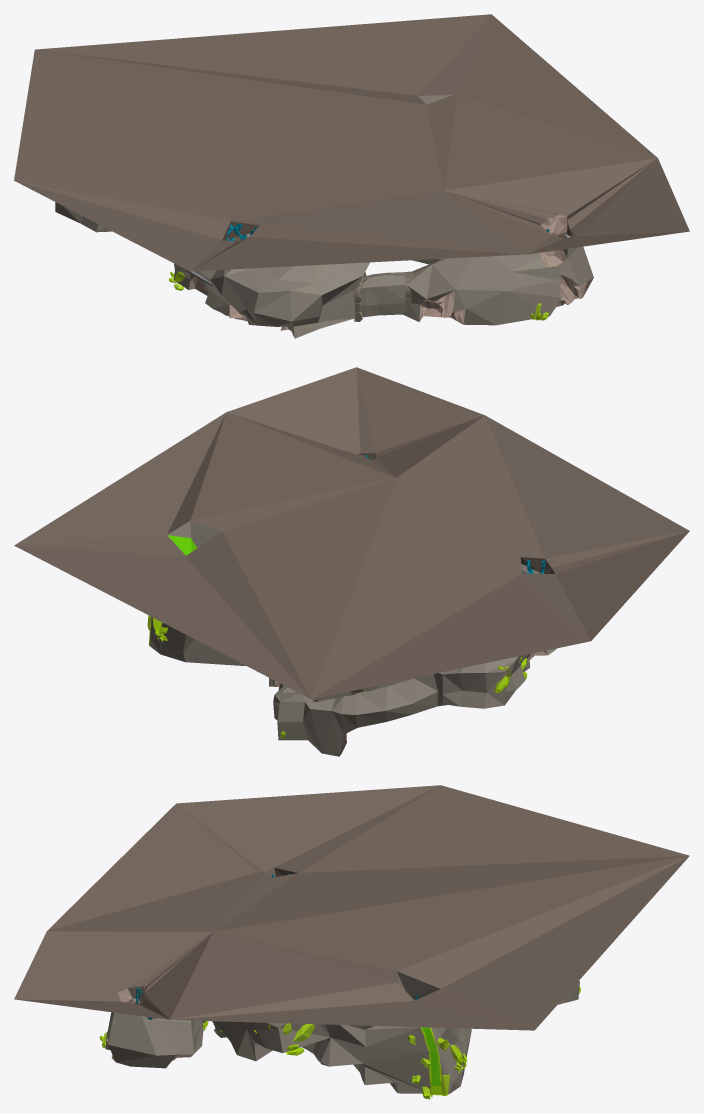
File: alphaV3.fbx
3 renders of one model, top to bottom at view 1: azimuth 30°, elevation 25°; view 2: azimuth 150°, elevation 25°; view 3: azimuth 270°, elevation 25°, orthographic. The views are drawn at different scales.
Parts seen in each view (by area): view 1: pasted__tall rock!5; view 2: pasted__tall rock!5; view 3: pasted__tall rock!5, pasted__Cube18.
Boxes of the visible parts, bbox=[...] form: pasted__tall rock!5: bbox=[14, 14, 689, 338]; pasted__tall rock!5: bbox=[14, 367, 689, 756]; pasted__tall rock!5: bbox=[14, 785, 689, 1094]; pasted__Cube18: bbox=[283, 1023, 314, 1055].
Bounding box in the file's own units: 11539 × 2556 × 13304.
